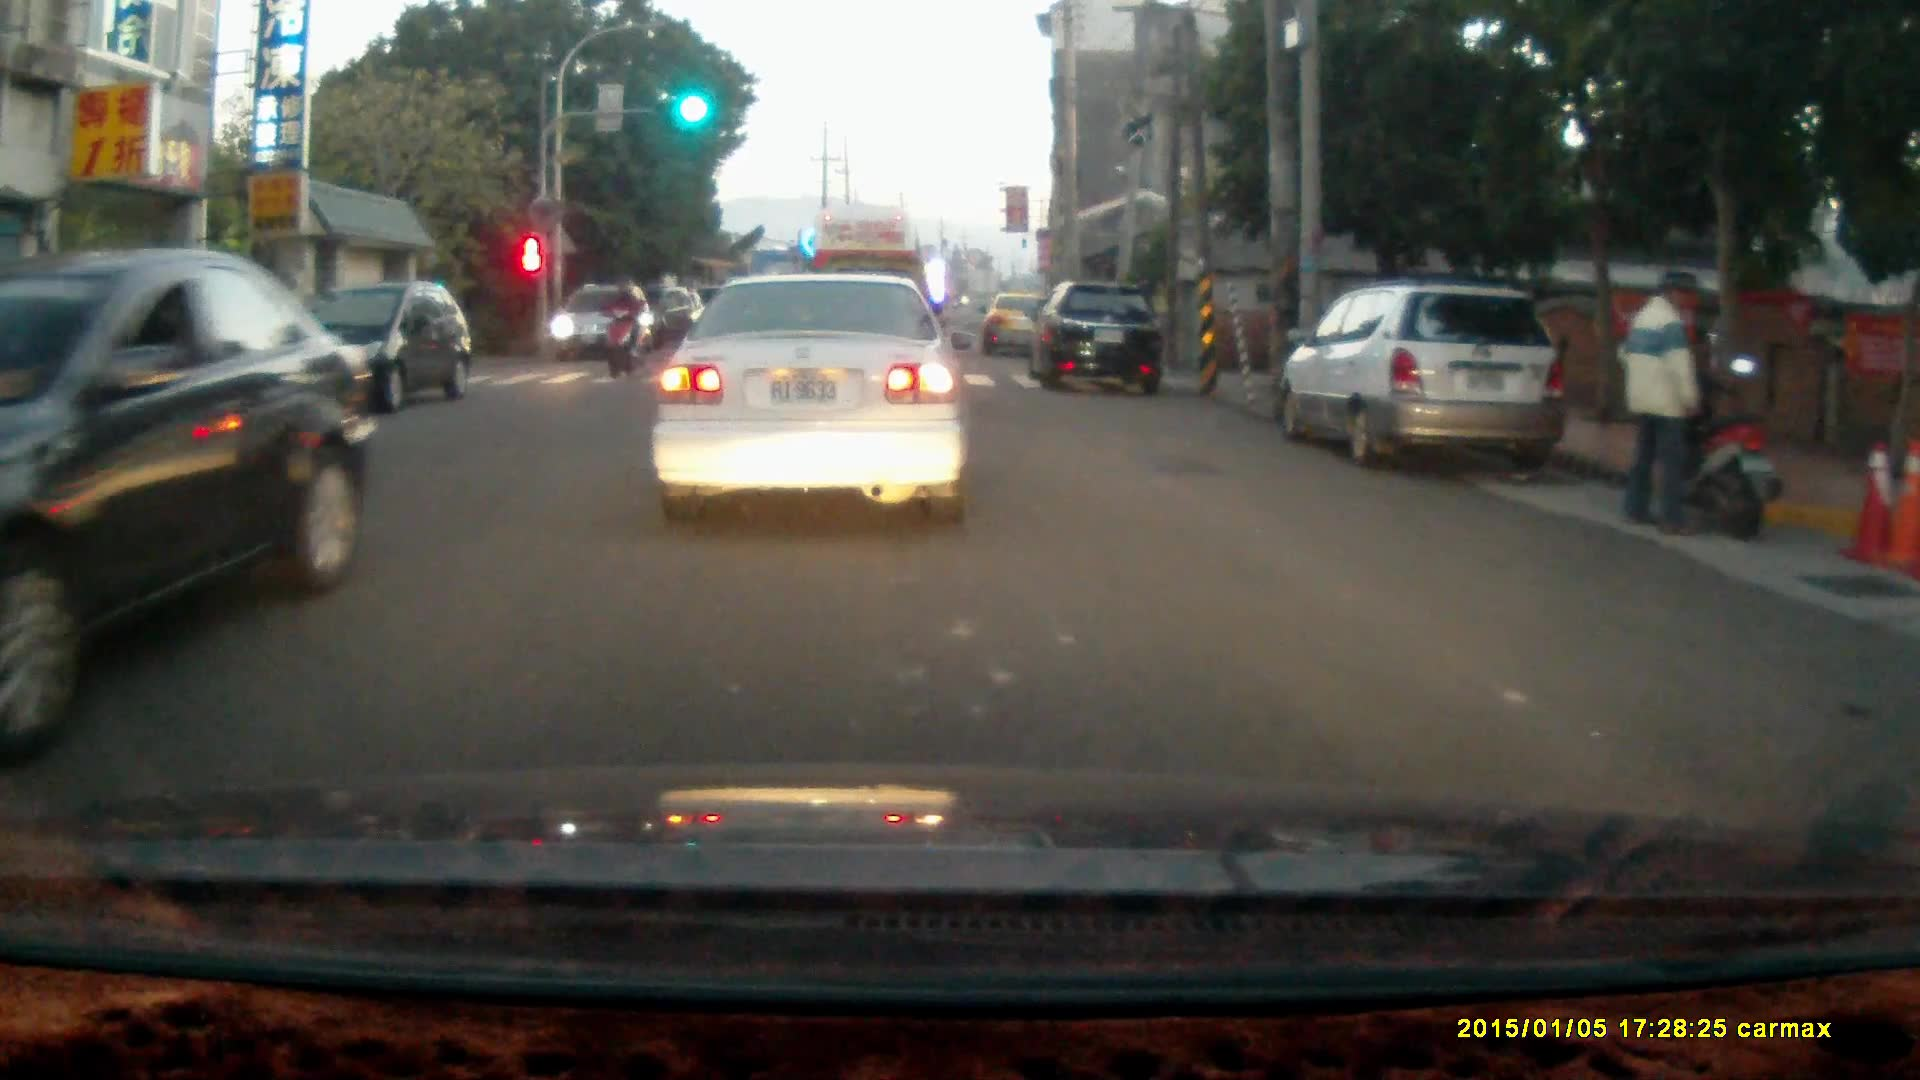pedestrian: (1613, 268, 1701, 537)
rider: (600, 277, 640, 376)
vehicle: (1, 247, 391, 733), (650, 272, 971, 525), (1291, 284, 1567, 475), (811, 204, 930, 366), (1029, 279, 1171, 394), (552, 282, 655, 357), (976, 294, 1070, 364)
